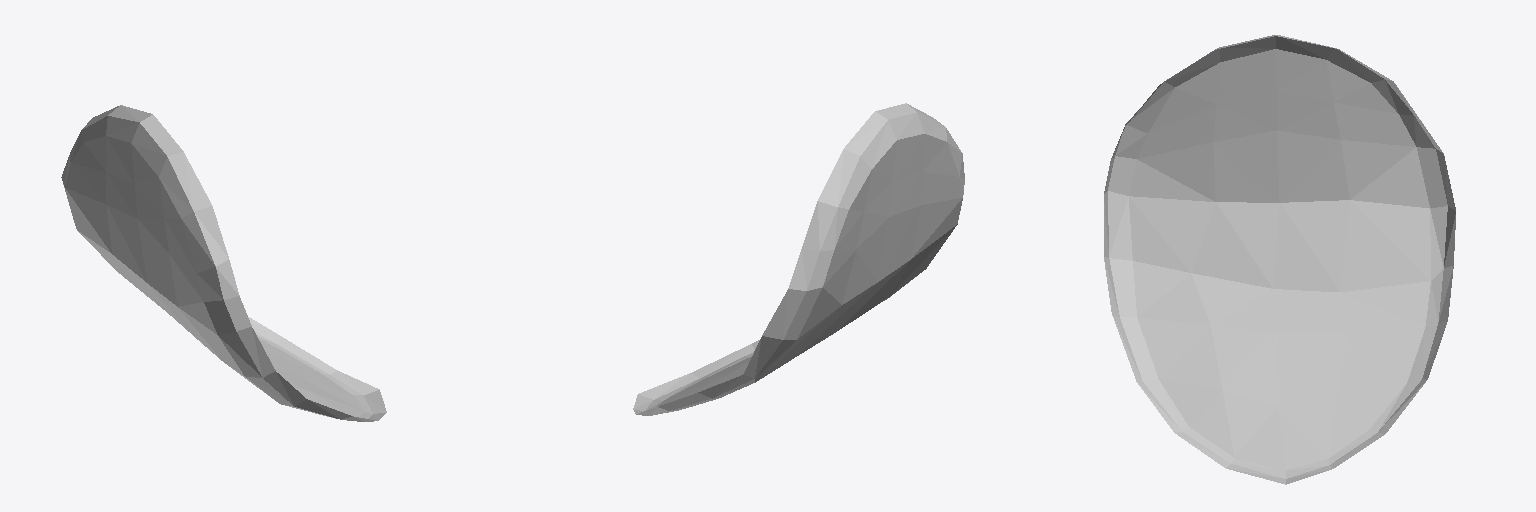
File: LElbowRoll_shiny.obj
The picture shows the model from 3 angles: view 1: azimuth 30°, elevation 25°; view 2: azimuth 150°, elevation 25°; view 3: azimuth 270°, elevation 25°; orthographic projection.
Bounding box in the file's own units: 0.5657 × 0.718 × 0.6799.